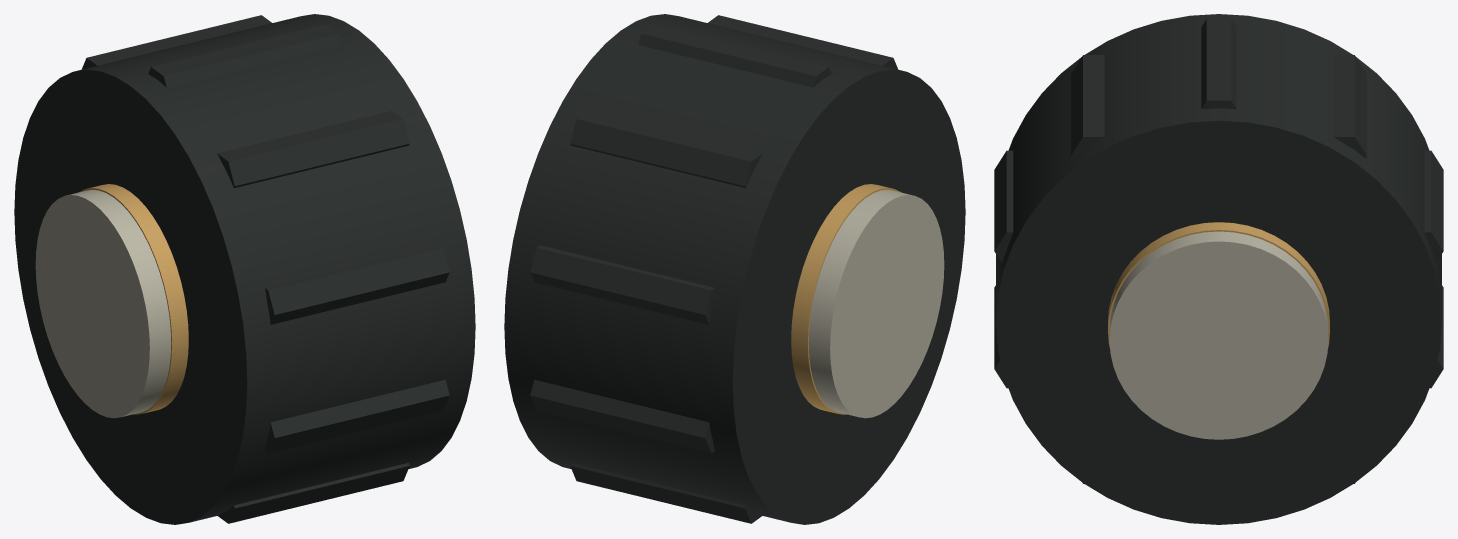
Rendered from Atelier.glb.
3 views of the same model, side by side, from view 1: azimuth 30°, elevation 25°; view 2: azimuth 150°, elevation 25°; view 3: azimuth 270°, elevation 25° (orthographic). The views are drawn at different scales.
Visible parts, largest first — view 1: Handwheel, Flute (×6), Hub, Hub cap; view 2: Handwheel, Flute (×6), Hub, Hub cap; view 3: Handwheel, Hub, Flute (×5), Hub cap.
Part boxes in pixels (<box>): Handwheel: <box>14,14,475,524</box>; Flute (×6): <box>81,15,449,523</box>; Hub: <box>35,189,171,418</box>; Hub cap: <box>78,184,188,414</box>; Handwheel: <box>504,14,965,524</box>; Flute (×6): <box>530,15,898,523</box>; Hub: <box>808,189,944,418</box>; Hub cap: <box>791,184,901,414</box>; Handwheel: <box>996,14,1441,524</box>; Hub: <box>1109,231,1328,439</box>; Flute (×5): <box>994,18,1443,263</box>; Hub cap: <box>1108,222,1329,349</box>.
Bounding box in the file's own units: 0.4 × 0.5502 × 0.5335.
